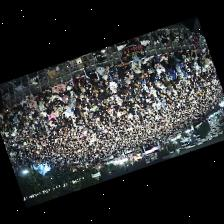person: (82, 61, 99, 84), (152, 56, 165, 75), (117, 68, 131, 82), (148, 67, 159, 84), (73, 74, 84, 91), (174, 55, 186, 70), (52, 83, 65, 96), (117, 62, 130, 75), (140, 56, 152, 70), (42, 88, 54, 101), (97, 65, 109, 77), (143, 69, 151, 86), (195, 47, 206, 59), (131, 59, 141, 72), (159, 50, 168, 64), (123, 85, 133, 97), (116, 83, 124, 98), (133, 68, 143, 80), (68, 88, 77, 101), (94, 80, 103, 93), (109, 78, 117, 92), (85, 80, 93, 94), (174, 49, 183, 61), (109, 63, 116, 78), (60, 91, 68, 104), (175, 62, 183, 75), (50, 101, 60, 111), (100, 74, 109, 85), (12, 102, 21, 113), (68, 97, 75, 111), (21, 96, 28, 110), (29, 100, 37, 112), (48, 110, 55, 123), (39, 100, 46, 113), (120, 78, 129, 87), (50, 94, 59, 103), (189, 49, 198, 58), (23, 108, 31, 118), (65, 80, 73, 89), (92, 86, 98, 98), (56, 105, 63, 115), (7, 104, 14, 114), (115, 94, 122, 104), (17, 109, 23, 120), (80, 86, 85, 97), (115, 71, 120, 82), (183, 49, 189, 56), (44, 100, 50, 106), (202, 47, 206, 55)
